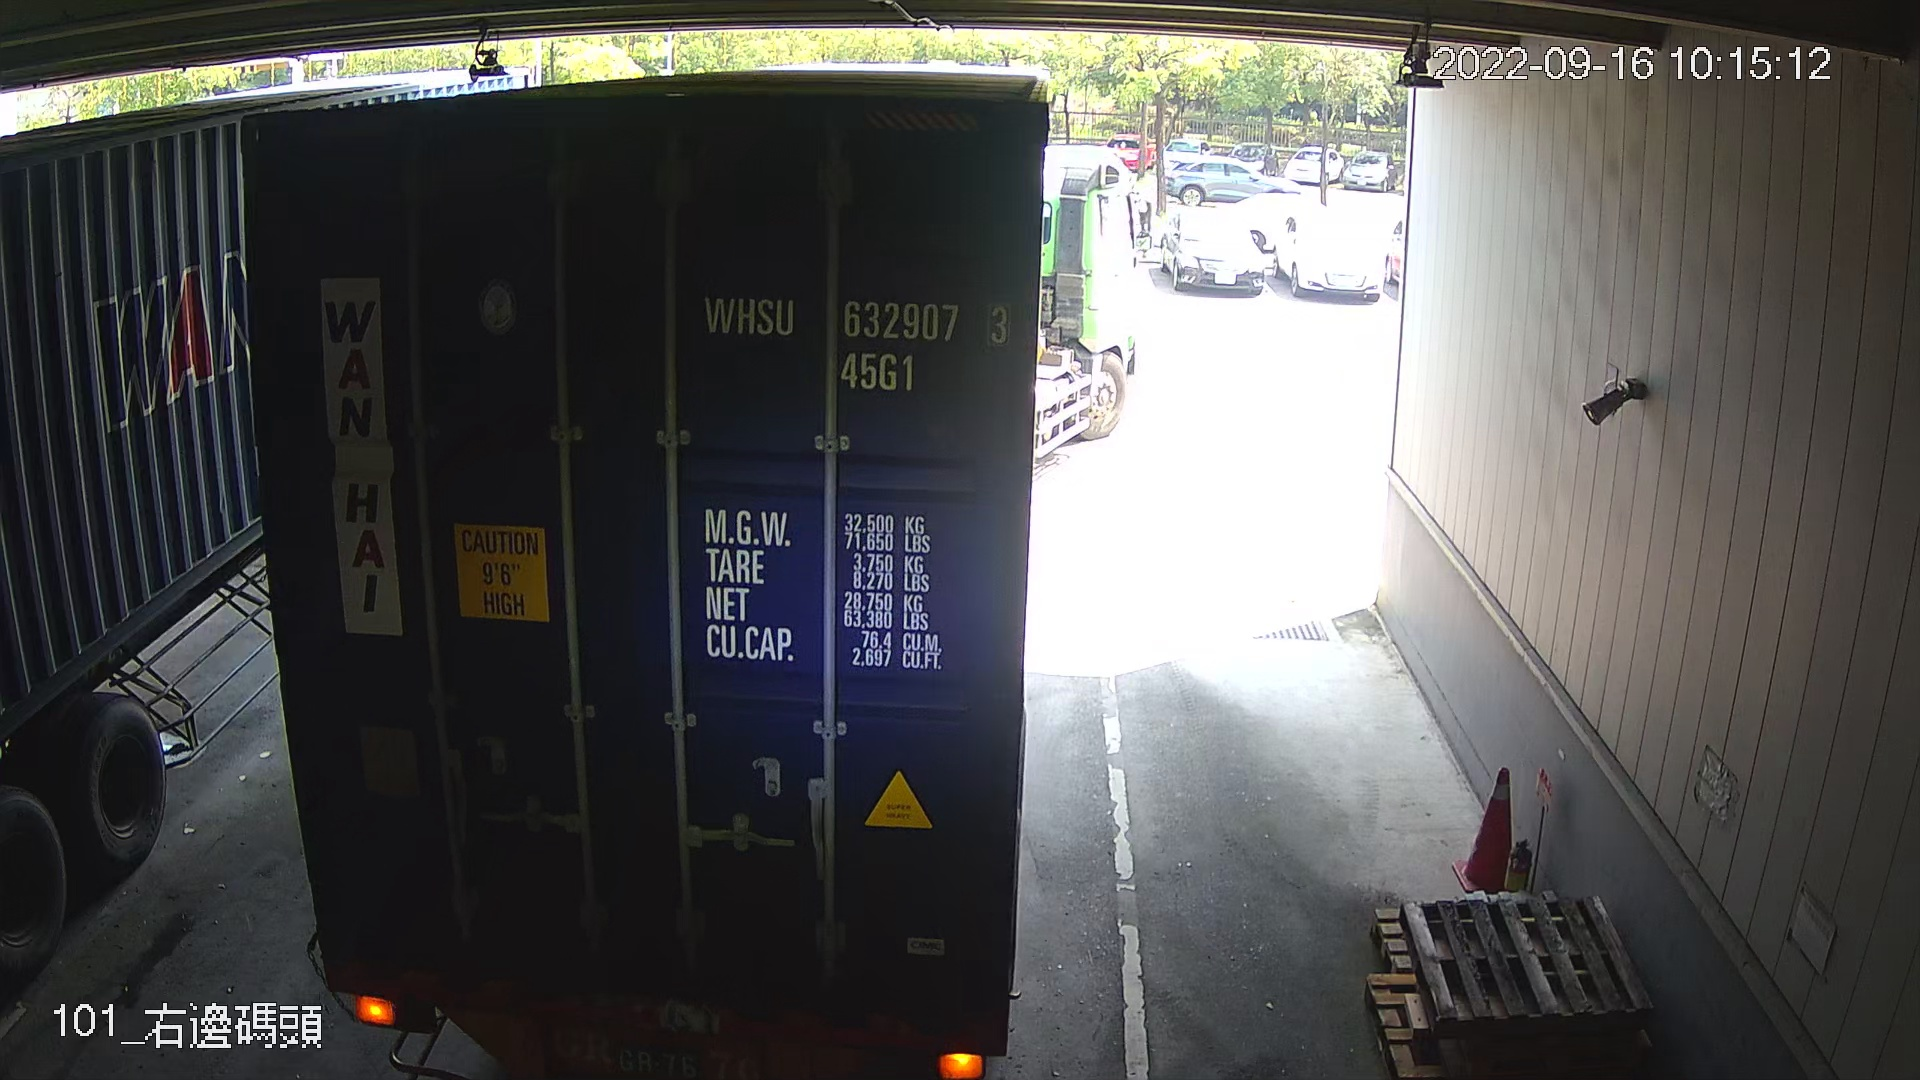container: (695, 282, 1017, 407)
